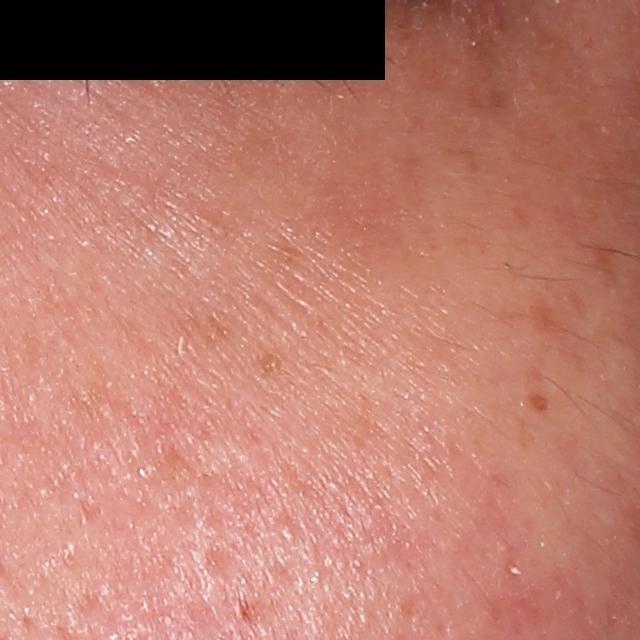melasma: (459, 24, 517, 113), (582, 234, 620, 287), (525, 368, 553, 415), (254, 346, 295, 377)
